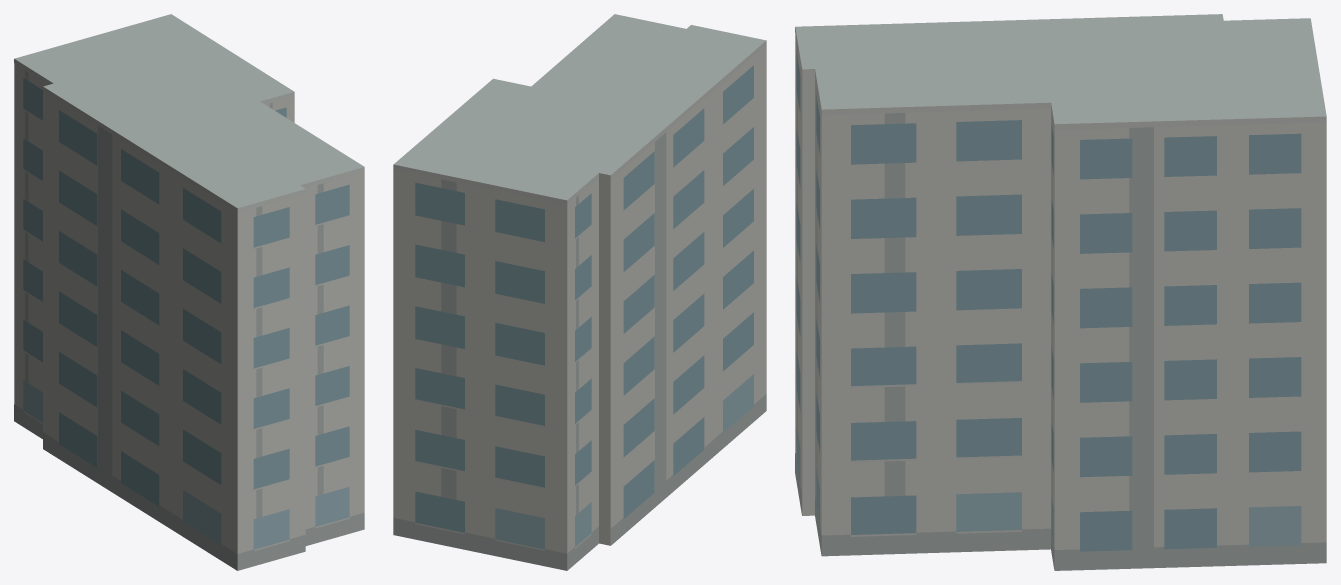
File: survey-upis-32760144.glb
3 views of the same model, side by side, from view 1: azimuth 30°, elevation 25°; view 2: azimuth 150°, elevation 25°; view 3: azimuth 270°, elevation 25° (orthographic). The views are drawn at different scales.
Parts seen in each view (by area): view 1: survey-upis-32760144.tmp; view 2: survey-upis-32760144.tmp; view 3: survey-upis-32760144.tmp.
Part boxes in pixels (<box>): survey-upis-32760144.tmp: <box>14,14,364,570</box>; survey-upis-32760144.tmp: <box>393,14,766,570</box>; survey-upis-32760144.tmp: <box>795,14,1326,570</box>.
Bounding box in the file's own units: 9.9 × 18.7 × 20.18.
